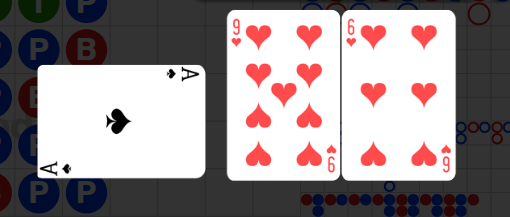6H: (439, 142, 452, 174)
9H: (231, 18, 243, 49)
AS: (40, 158, 75, 176)
